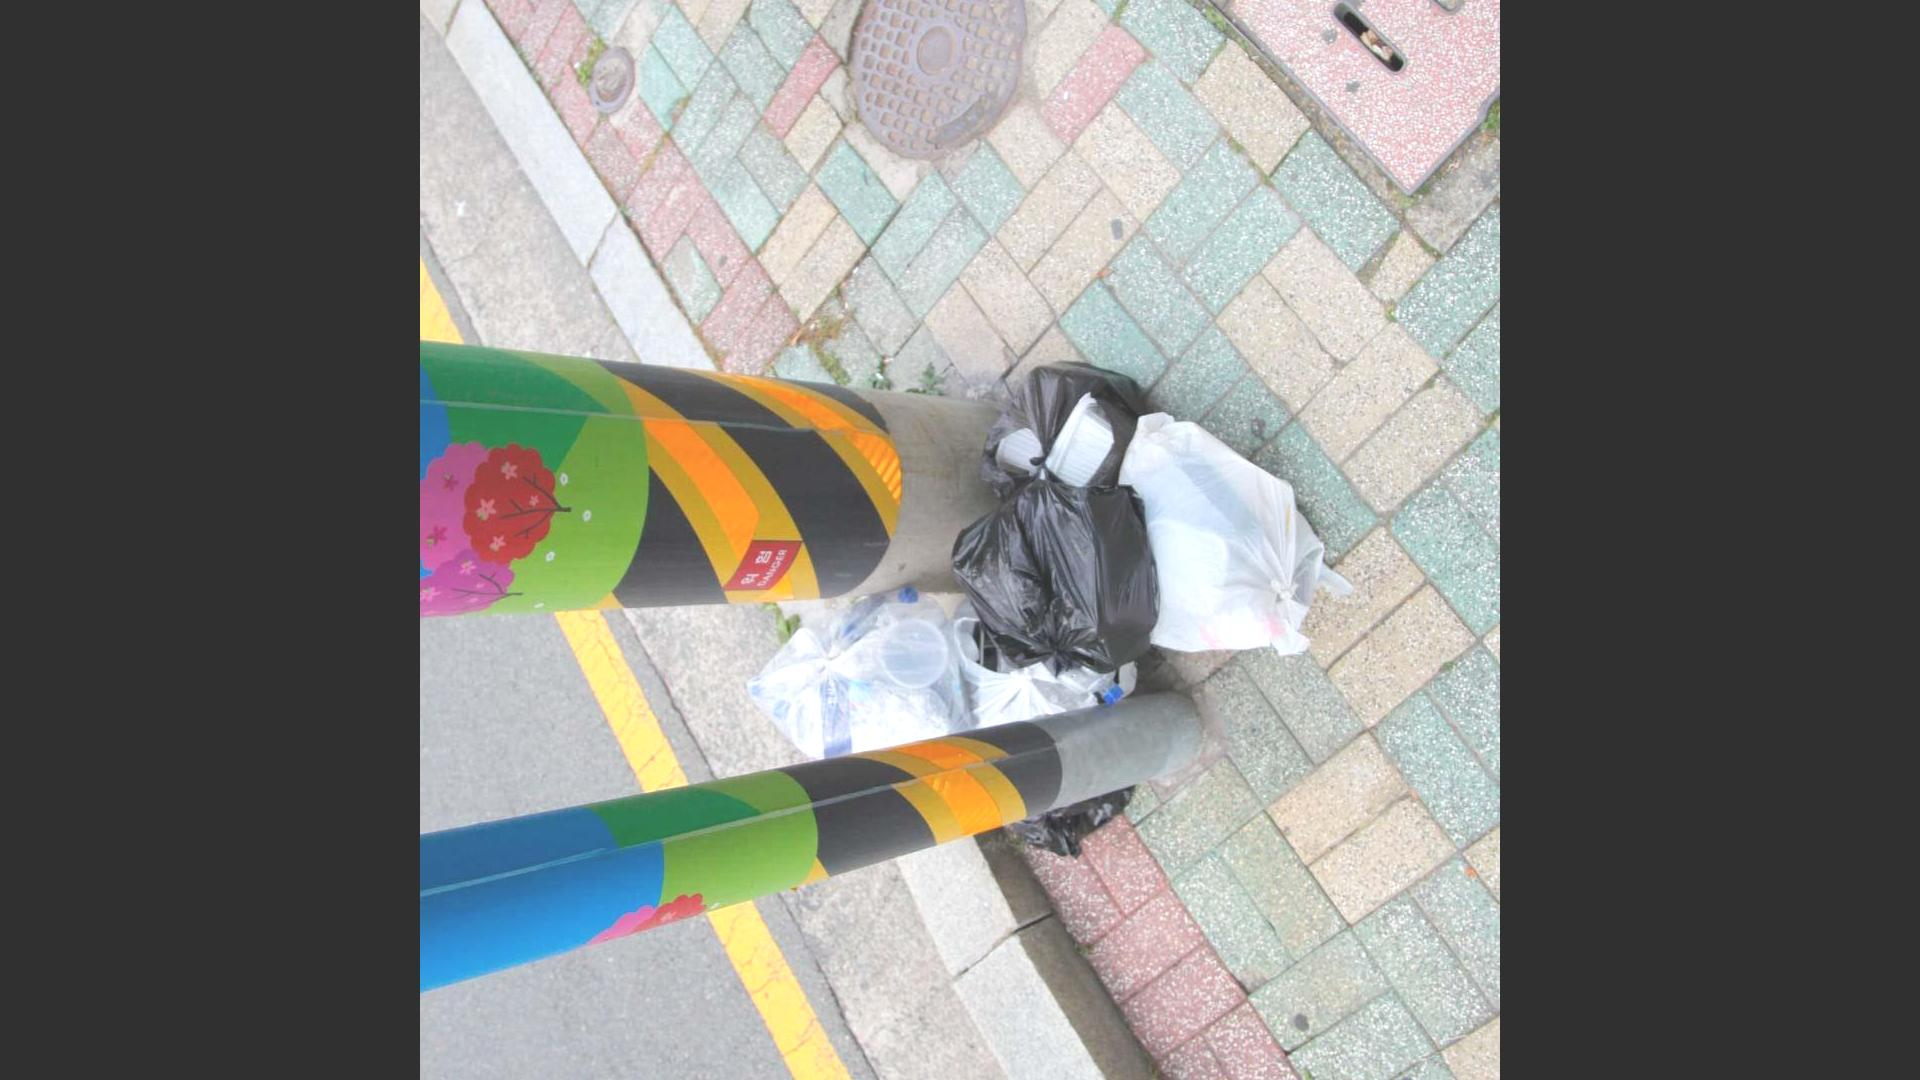white_bag: (1113, 397, 1346, 674), (744, 574, 984, 775), (949, 473, 1158, 682)
